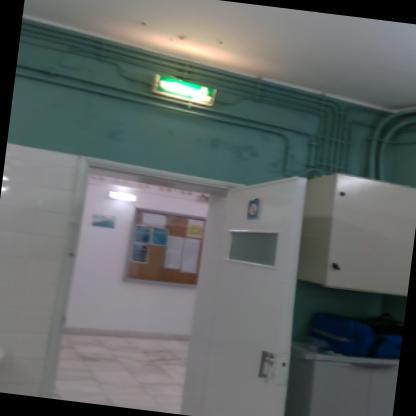open: (38, 149, 323, 415)
